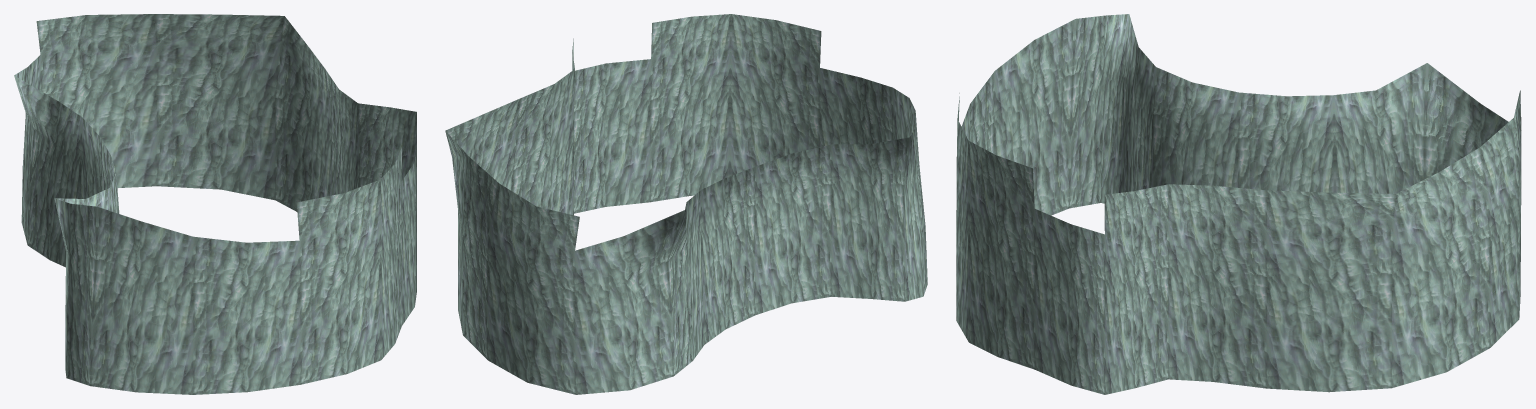
The model's file is TROLLHOLE02_PS-SECRETCAVE03.obj.
The picture shows the model from 3 angles, left to right: view 1: azimuth 30°, elevation 25°; view 2: azimuth 150°, elevation 25°; view 3: azimuth 270°, elevation 25°; orthographic projection. The views are drawn at different scales.
Parts seen in each view (by area): view 1: Ps-SecretCave03; view 2: Ps-SecretCave03; view 3: Ps-SecretCave03.
Part boxes in pixels (x1,y1,x2,y2): Ps-SecretCave03: (14,14,416,394); Ps-SecretCave03: (445,14,927,394); Ps-SecretCave03: (956,14,1521,394).
Size of the model in its own units: 3565 by 1765 by 4456.
